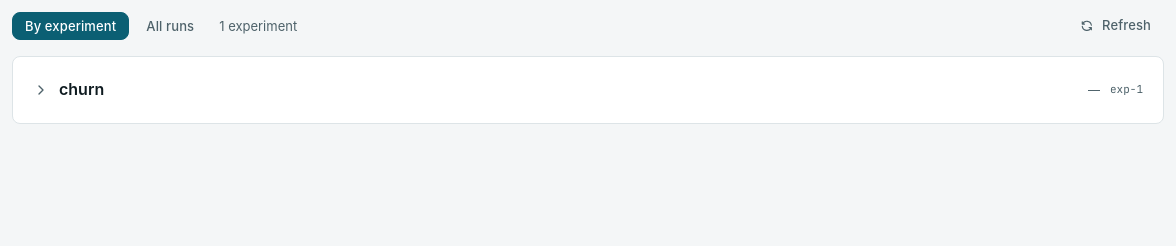
Test case: Experiments › All runs › lists every run with its hyperparameters and metrics as columns
Click the button "All runs" at (170, 26), box [133,12,207,40]
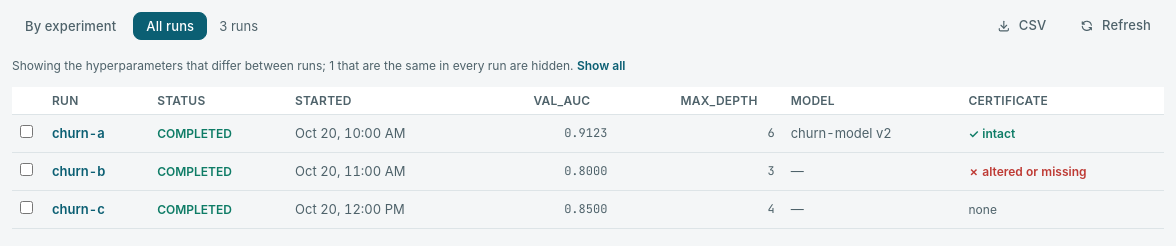
Expected: the text "6" is shown, [615,115,783,153]
Expected: the text "0.9123" is shown, [479,115,615,153]
Expected: the column heading "max_depth" is shown, [615,87,783,115]
